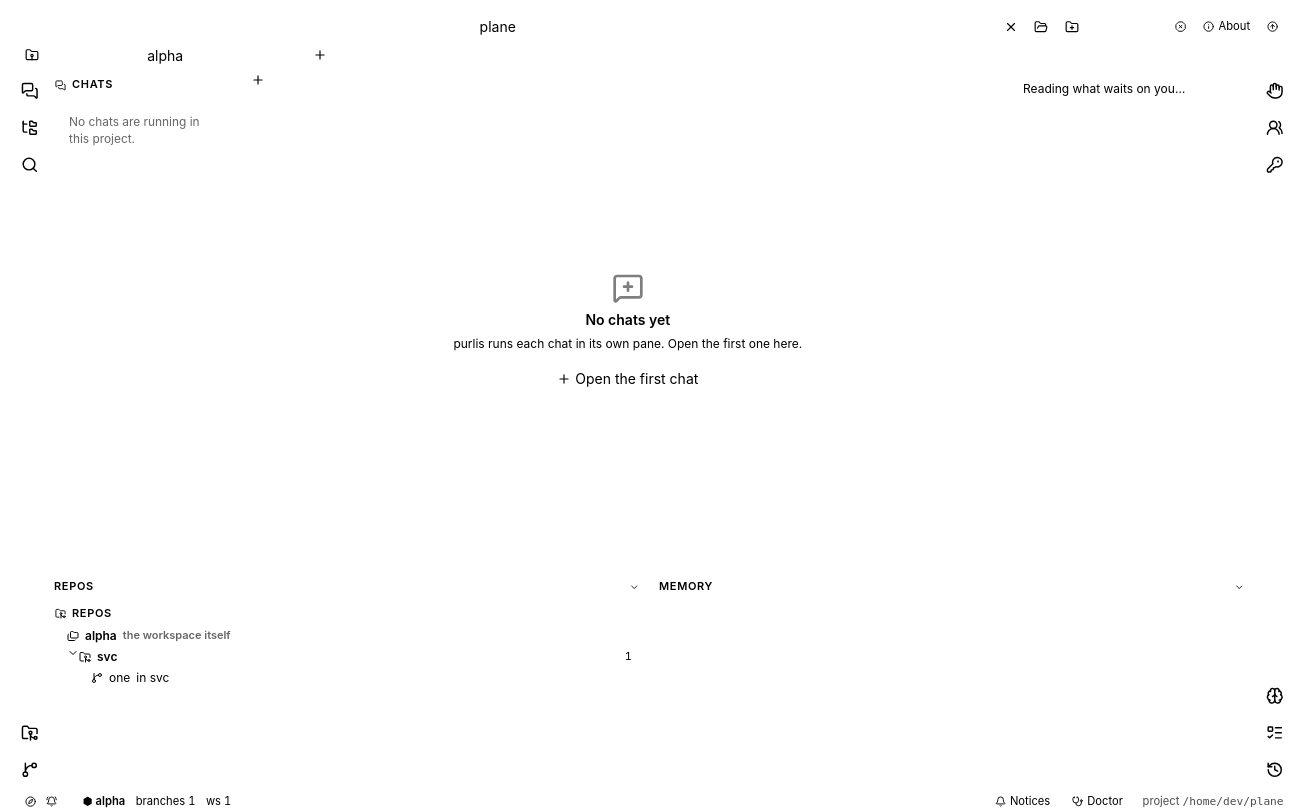
the branch cockpit in the window (FM-5) › draws the focus the record put back as the cockpit
The width and height of the screenshot is (1304, 812).
Click the tab named "Explorer" at point(30, 128), box 12,110 -> 47,145
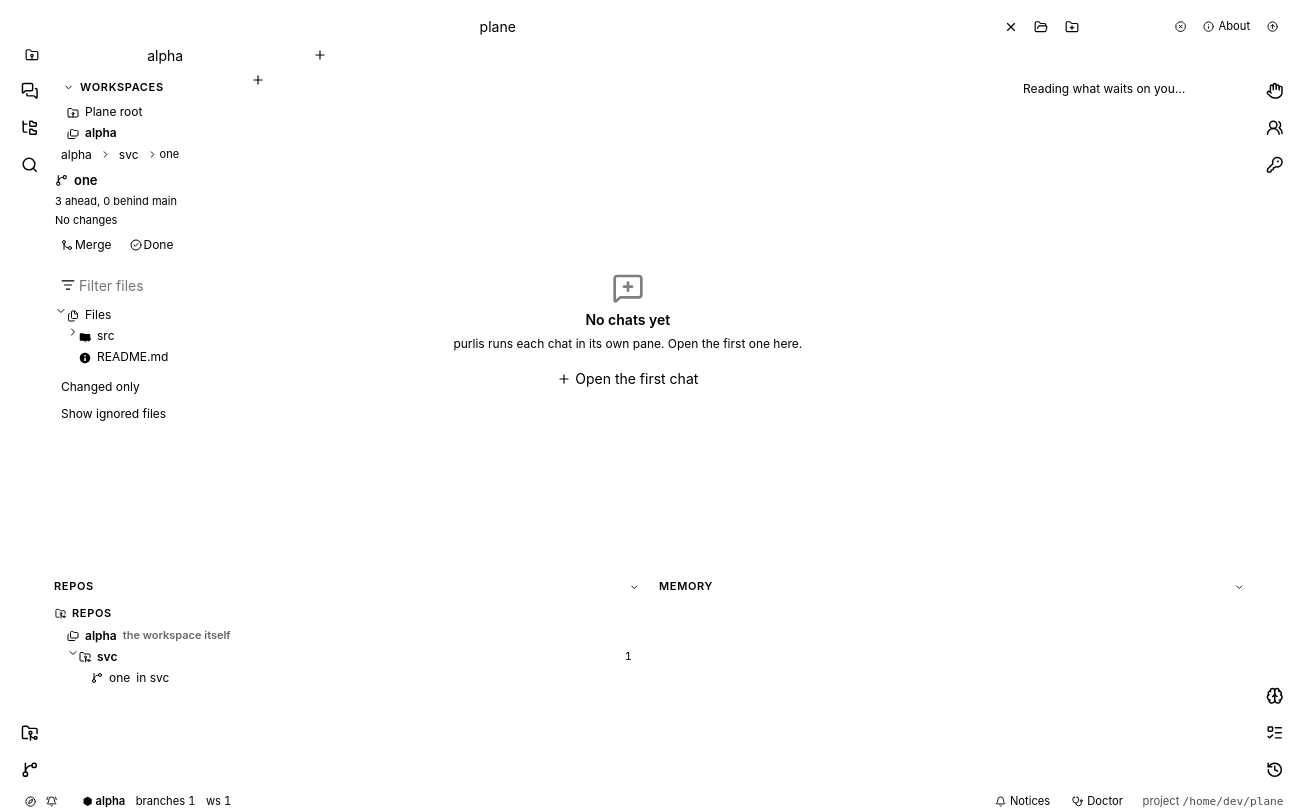
Expected: the element named "Repos and branches" is shown, 55,626 -> 644,688
Expected: the element named "Branch one" is shown, 55,172 -> 180,255
